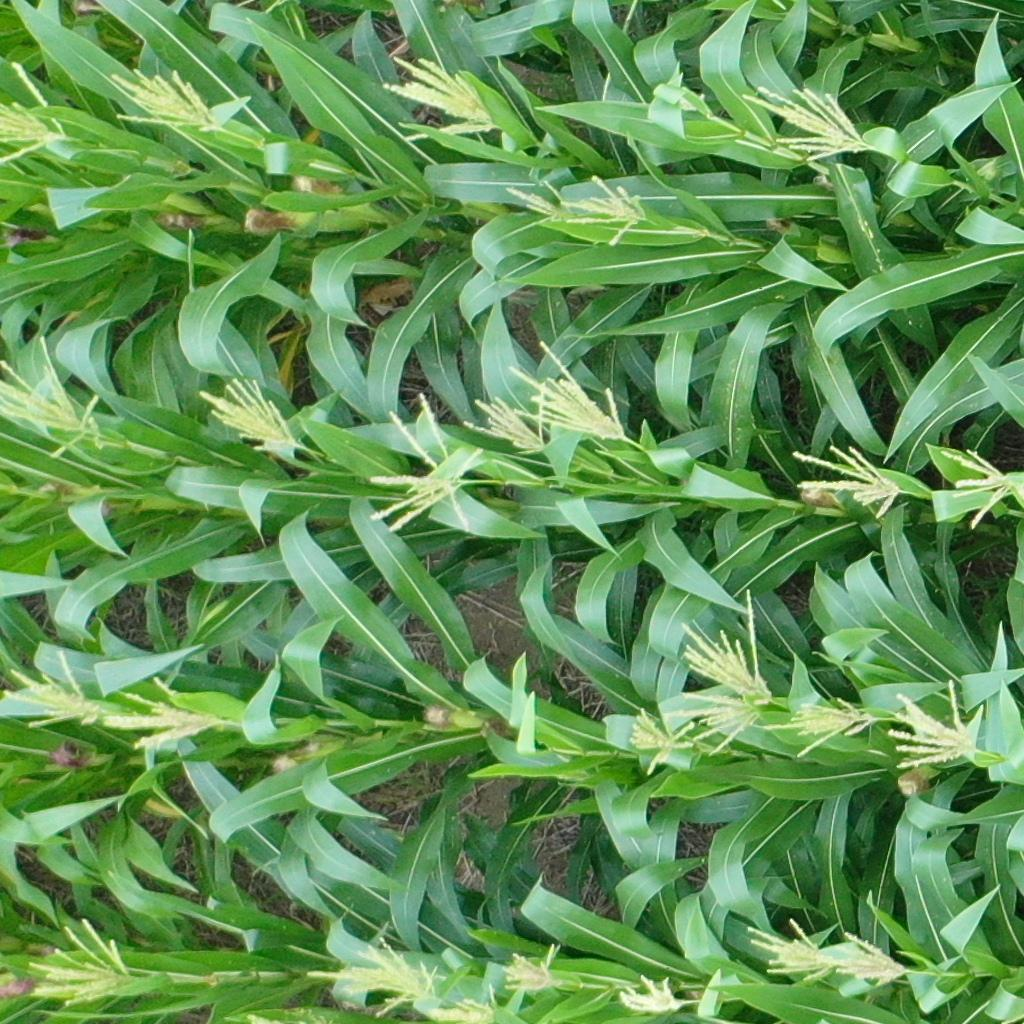Tassel: (365, 385, 487, 543), (1, 333, 113, 456), (506, 336, 631, 443), (378, 44, 497, 146), (304, 936, 445, 1017), (737, 81, 872, 163), (29, 914, 144, 1005), (102, 671, 231, 752), (677, 582, 767, 691), (788, 436, 898, 523), (889, 678, 987, 772), (198, 374, 306, 457), (105, 64, 220, 133), (761, 694, 876, 760), (3, 653, 108, 725), (464, 372, 552, 454), (934, 441, 1012, 533), (1, 60, 69, 162), (562, 171, 652, 246), (744, 915, 837, 986), (622, 699, 701, 776), (680, 691, 763, 751), (837, 925, 908, 988), (500, 937, 568, 998), (618, 967, 690, 1016), (505, 175, 565, 228), (428, 984, 503, 1024)
